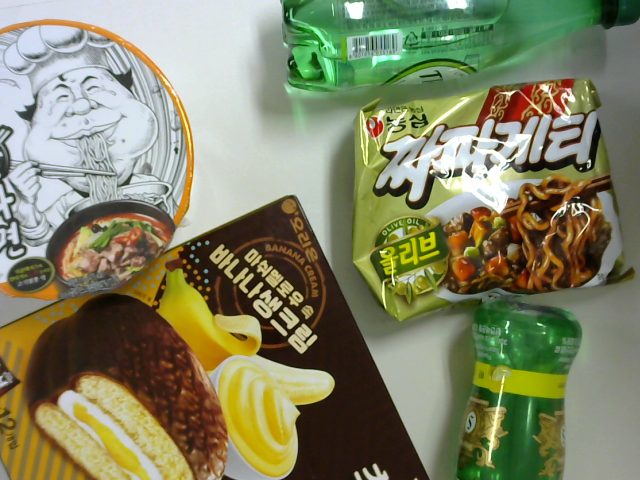Choco_Pie_Banana: (1, 196, 429, 480)
Hejangchan: (1, 24, 191, 302)
Olive_Chapaghetti: (349, 84, 640, 315)
Seagram_Lemon_Carbonated_Water: (459, 298, 585, 480)
Treviraim_500ml: (267, 8, 640, 94)
